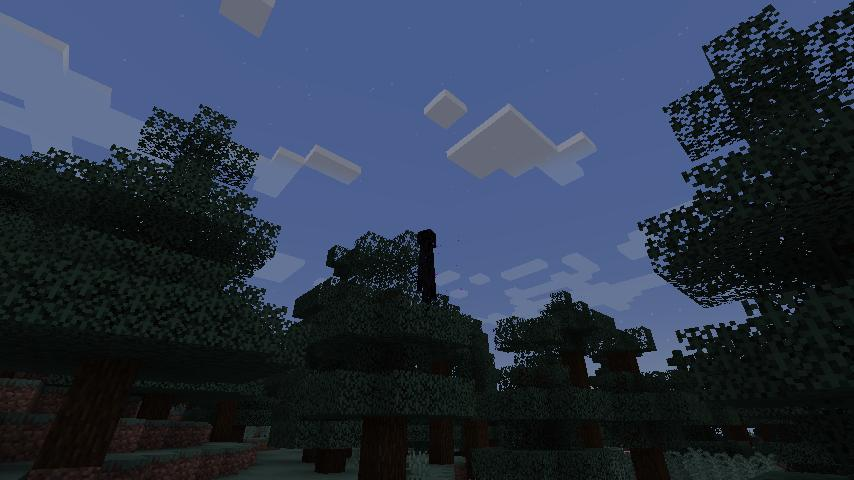enderman: (413, 227, 440, 303)
